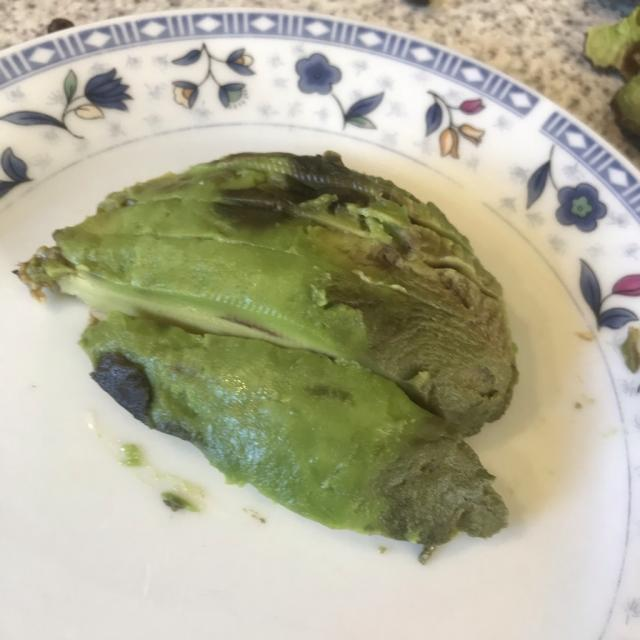avocado: (38, 158, 508, 540)
